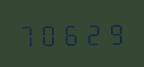nine: (102, 19, 122, 46)
seven: (18, 20, 38, 47)
six: (60, 20, 80, 46)
two: (81, 19, 101, 46)
zero: (39, 20, 59, 47)
